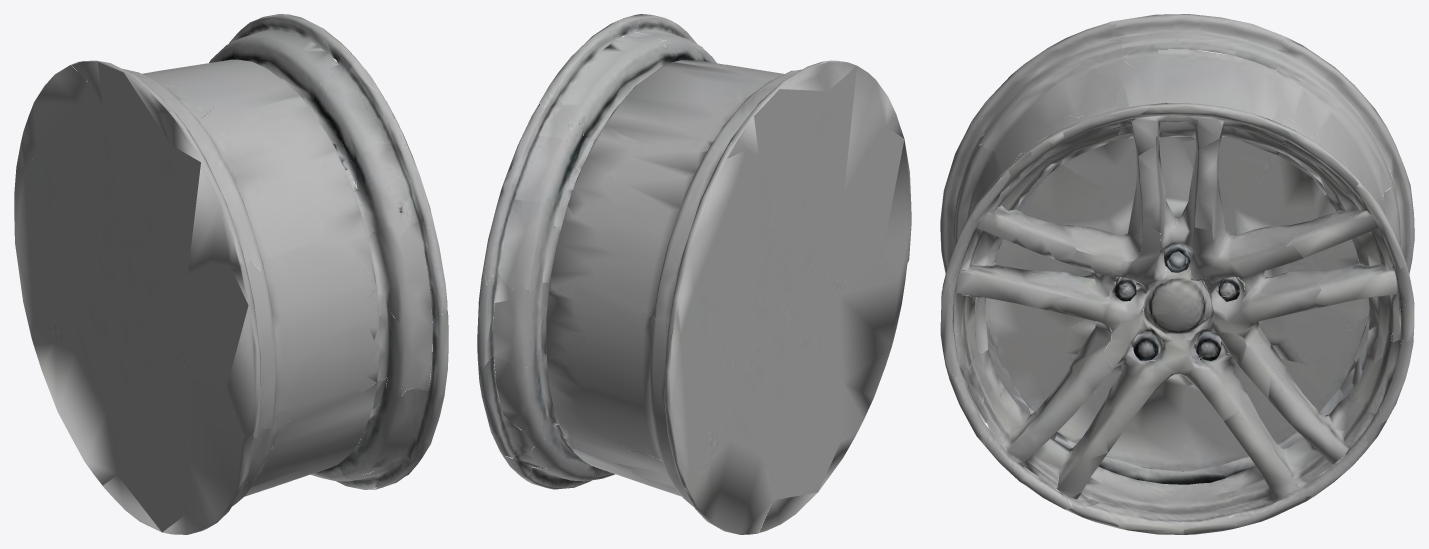
File: bavorak_rim.glb
The picture shows the model from 3 angles, left to right: view 1: azimuth 30°, elevation 25°; view 2: azimuth 150°, elevation 25°; view 3: azimuth 270°, elevation 25°; orthographic projection. The views are drawn at different scales.
Visible parts, largest first — view 1: tripo_node_c8fd86ab-cc2b-4d7a-bcec-bb0af20362d2; view 2: tripo_node_c8fd86ab-cc2b-4d7a-bcec-bb0af20362d2; view 3: tripo_node_c8fd86ab-cc2b-4d7a-bcec-bb0af20362d2.
Part boxes in pixels (x1,y1,x2,y2): tripo_node_c8fd86ab-cc2b-4d7a-bcec-bb0af20362d2: [14, 14, 448, 534]; tripo_node_c8fd86ab-cc2b-4d7a-bcec-bb0af20362d2: [477, 14, 911, 534]; tripo_node_c8fd86ab-cc2b-4d7a-bcec-bb0af20362d2: [940, 14, 1414, 534].
Bounding box in the file's own units: 0.461 × 1 × 0.9982.
1 material, 1 textured.
